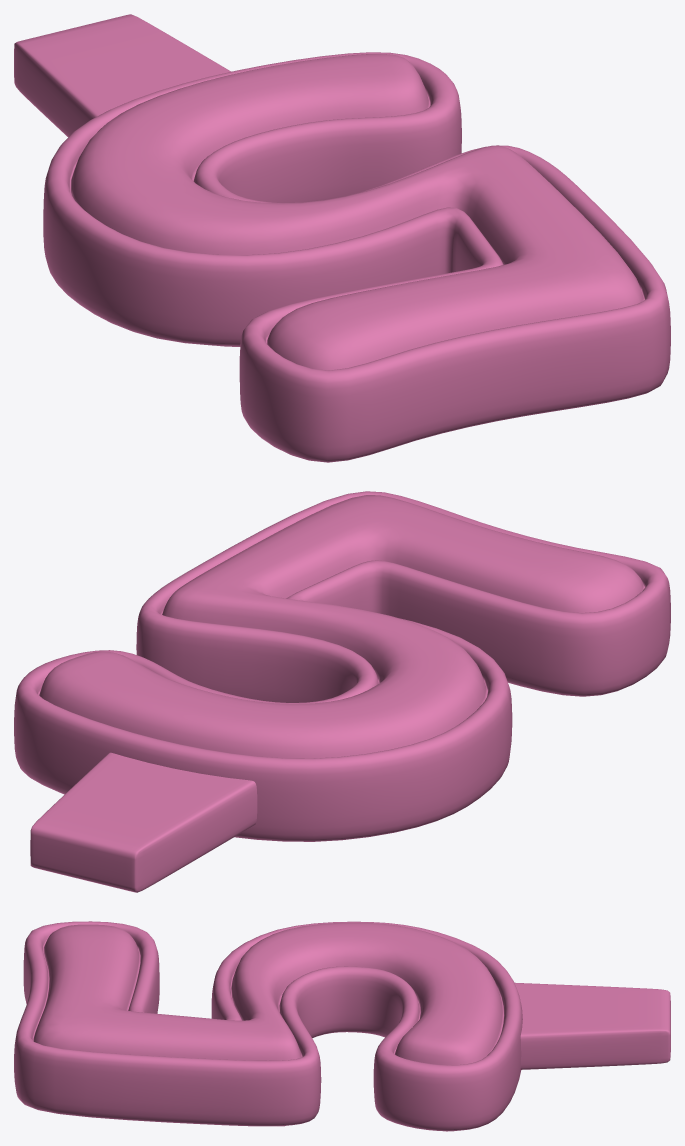
3 views of the same model, one above another, from view 1: azimuth 30°, elevation 25°; view 2: azimuth 150°, elevation 25°; view 3: azimuth 270°, elevation 25° (orthographic). The views are drawn at different scales.
Visible parts, largest first — view 1: _Number_5_v1:_Number_5_v1; view 2: _Number_5_v1:_Number_5_v1; view 3: _Number_5_v1:_Number_5_v1.
Boxes of the visible parts, left/top/right/bottom form: _Number_5_v1:_Number_5_v1: left=14, top=14, right=670, bottom=462; _Number_5_v1:_Number_5_v1: left=14, top=491, right=670, bottom=892; _Number_5_v1:_Number_5_v1: left=14, top=921, right=670, bottom=1131.
Size of the model in its own units: 7.31 by 1.98 by 13.25.
